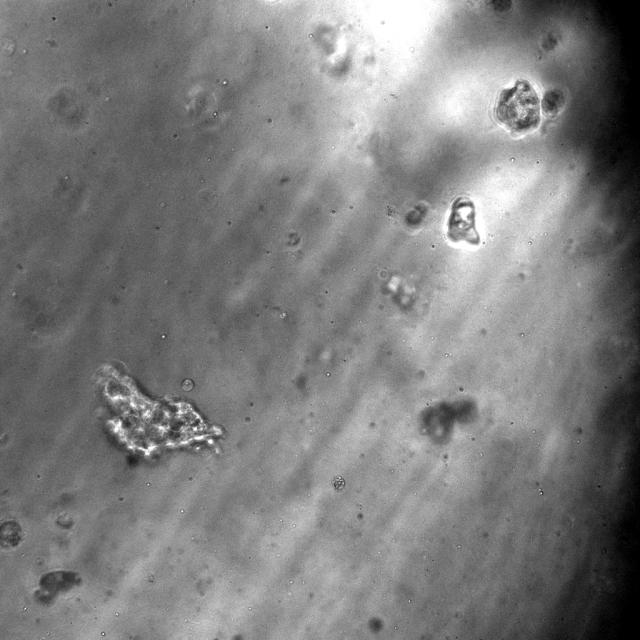organoid: (94, 363, 224, 465), (493, 79, 566, 137), (420, 400, 478, 444), (448, 196, 479, 244), (36, 571, 81, 603), (404, 200, 431, 229), (0, 520, 22, 545), (541, 32, 558, 51), (491, 0, 511, 12), (368, 616, 383, 632), (332, 476, 345, 491)
